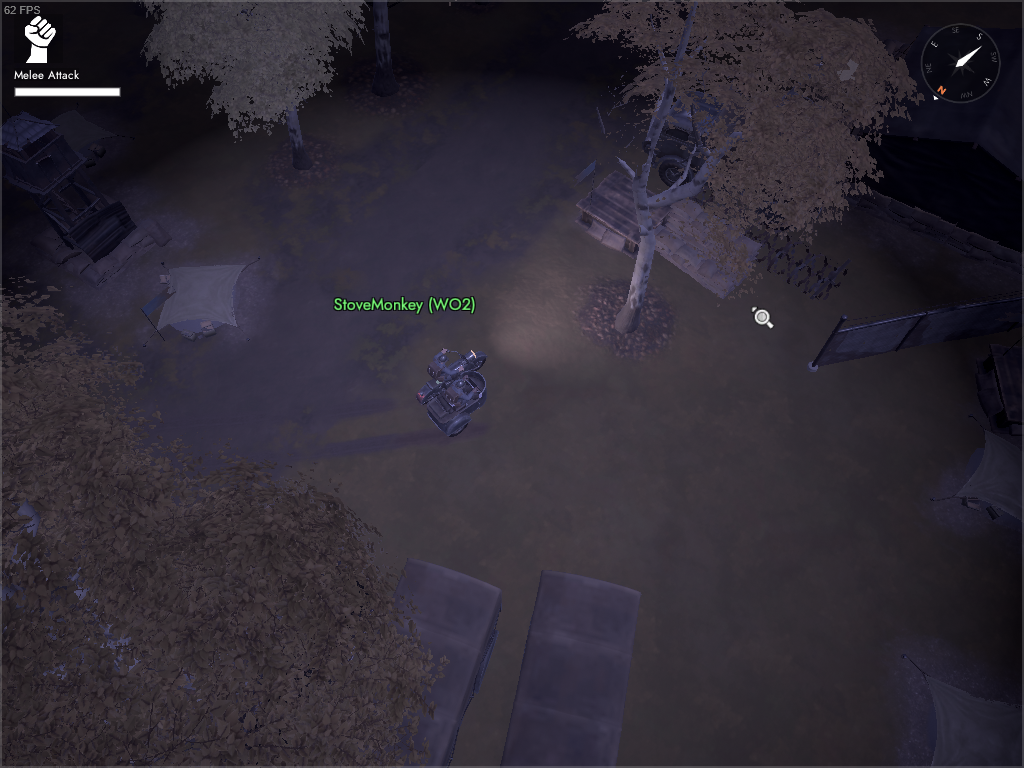fence: (805, 257, 1024, 376)
foxhole: (917, 402, 1024, 556), (890, 647, 1024, 767), (129, 254, 266, 354), (1, 102, 143, 178)
motorcycle: (410, 340, 496, 443)
pillbox: (570, 157, 677, 265), (970, 337, 1024, 438)
player: (423, 345, 475, 388), (438, 375, 483, 420)
sandbag: (649, 197, 762, 303)
truck: (325, 551, 509, 768), (643, 83, 839, 247), (495, 563, 648, 768)
watchtower: (1, 109, 177, 294)
wire: (695, 195, 851, 306)
